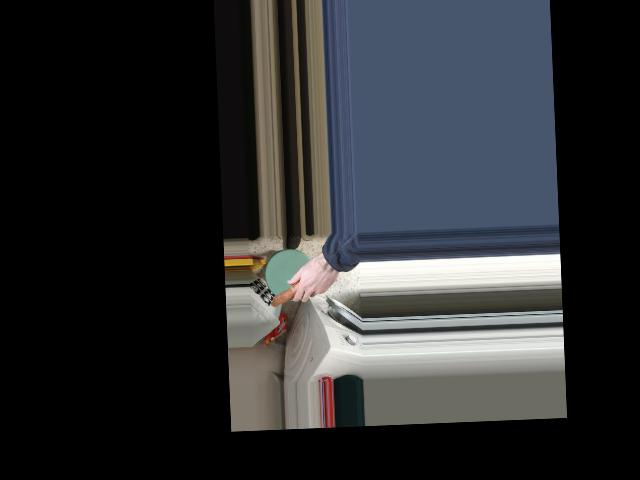sweet_potato: (271, 266, 324, 307)
